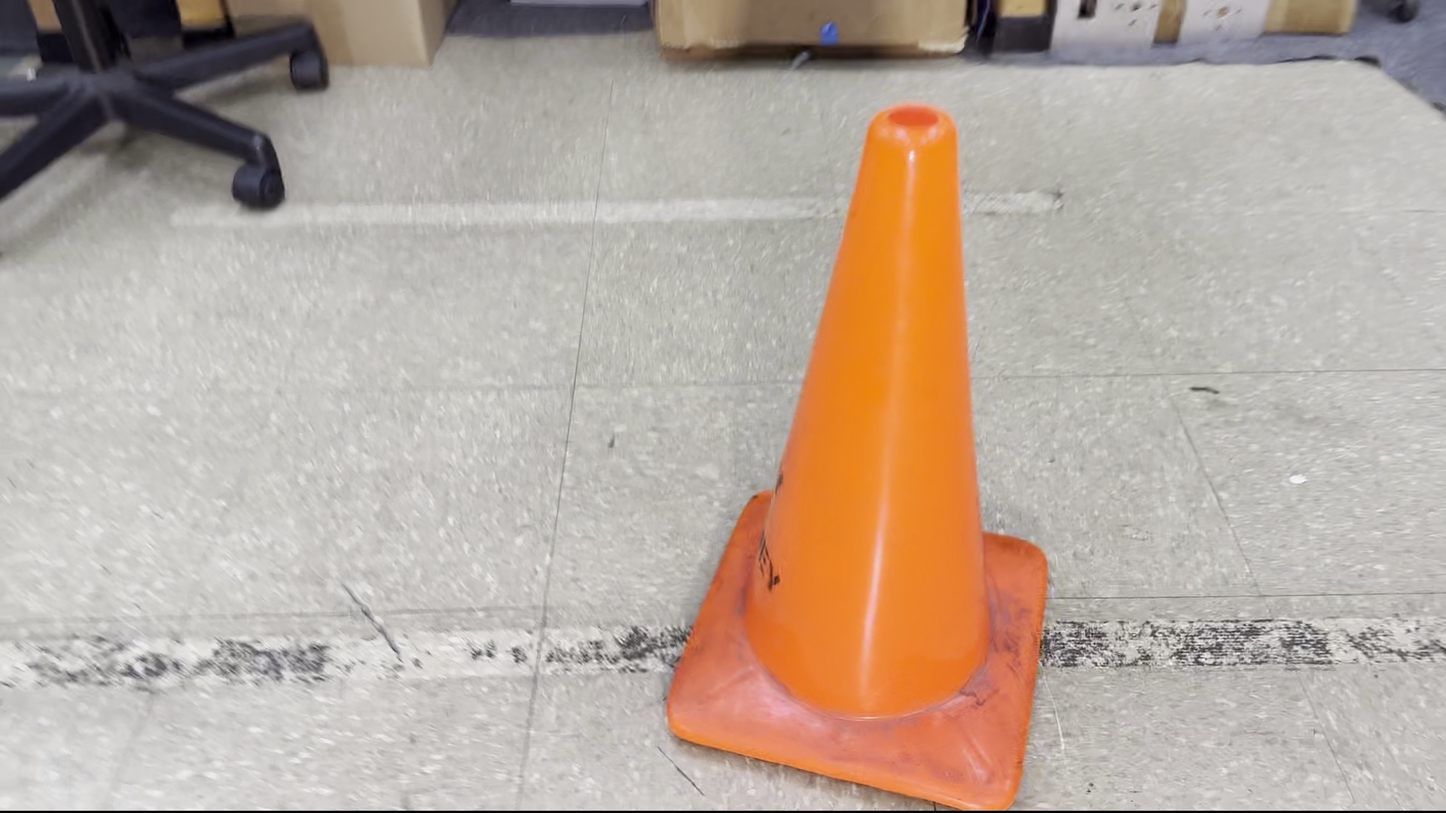traffic_cone: (664, 101, 1049, 811)
